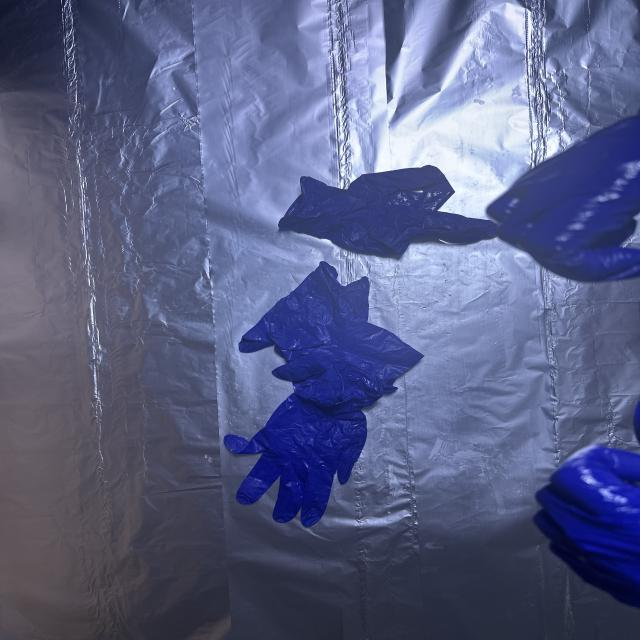gloves_contaminated: (487, 116, 640, 281), (534, 446, 640, 608)
